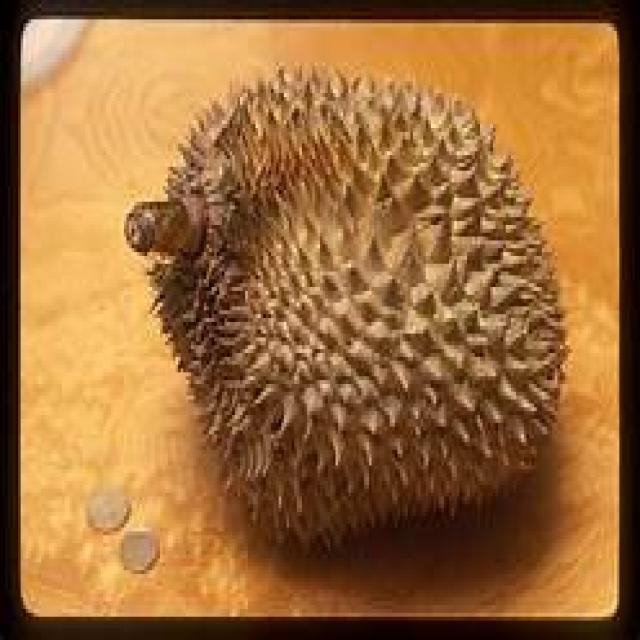mature: (152, 70, 564, 553)
